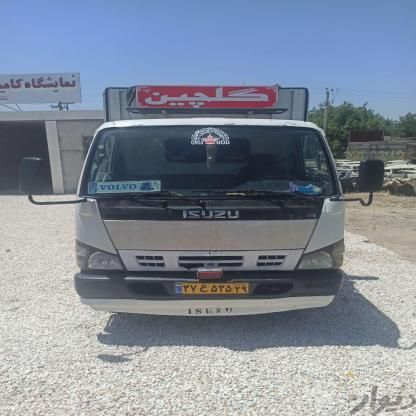Truck: (52, 87, 352, 338)
